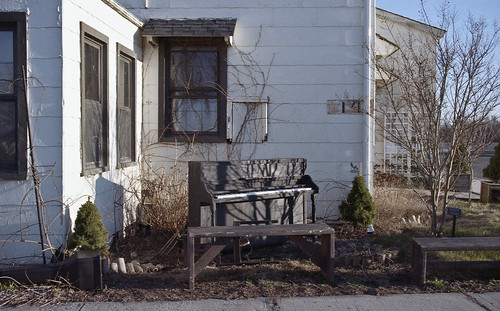bench: (167, 221, 350, 283), (408, 231, 499, 287)
building: (1, 1, 363, 234), (365, 4, 438, 190)
tree: (380, 55, 500, 248)
